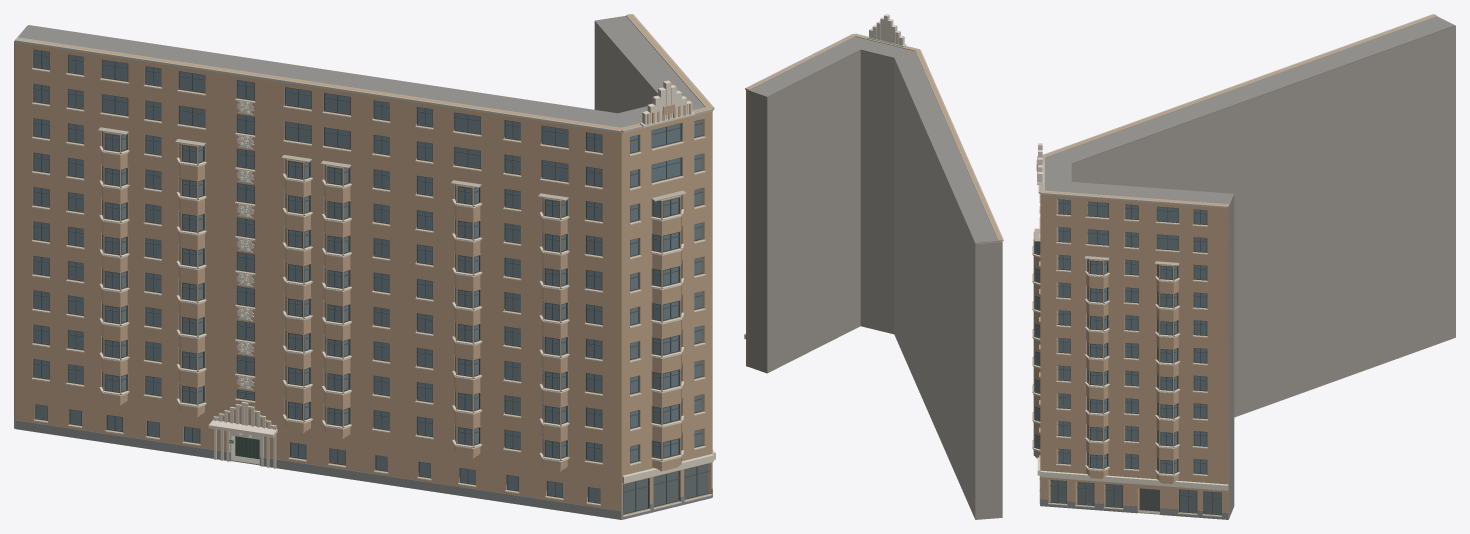
File: xuhui-washington-apartments-raw.glb
3 views of the same model, side by side, from view 1: azimuth 30°, elevation 25°; view 2: azimuth 150°, elevation 25°; view 3: azimuth 270°, elevation 25° (orthographic). The views are drawn at different scales.
Parts seen in each view (by area): view 1: 华盛顿公寓衡山路街角与高安路48号入口; view 2: 华盛顿公寓衡山路街角与高安路48号入口; view 3: 华盛顿公寓衡山路街角与高安路48号入口.
Part boxes in pixels (<box>): 华盛顿公寓衡山路街角与高安路48号入口: <box>14,14,715,519</box>; 华盛顿公寓衡山路街角与高安路48号入口: <box>744,14,1003,519</box>; 华盛顿公寓衡山路街角与高安路48号入口: <box>1032,14,1455,519</box>.
Size of the model in its own units: 44.58 by 36.97 by 41.31.
